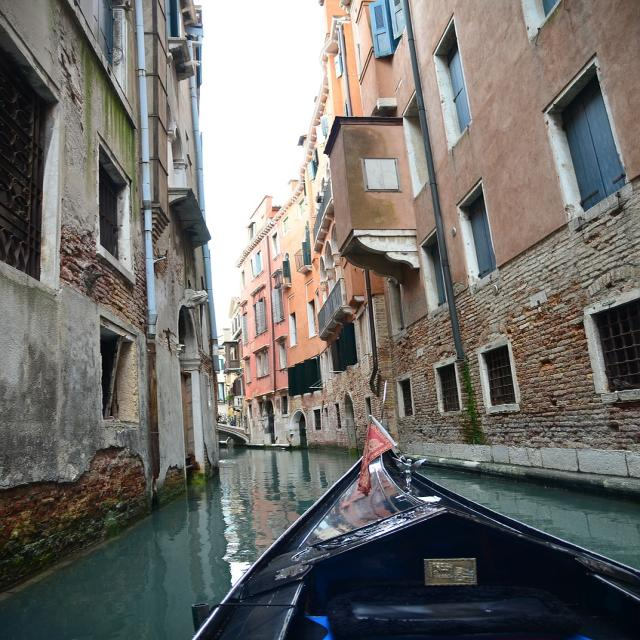boat: (183, 374, 640, 640)
